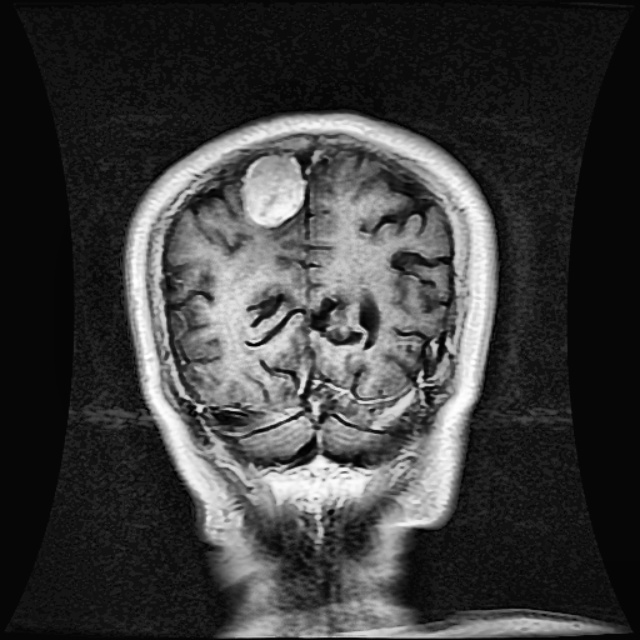Glioma: (240, 153, 305, 225)
